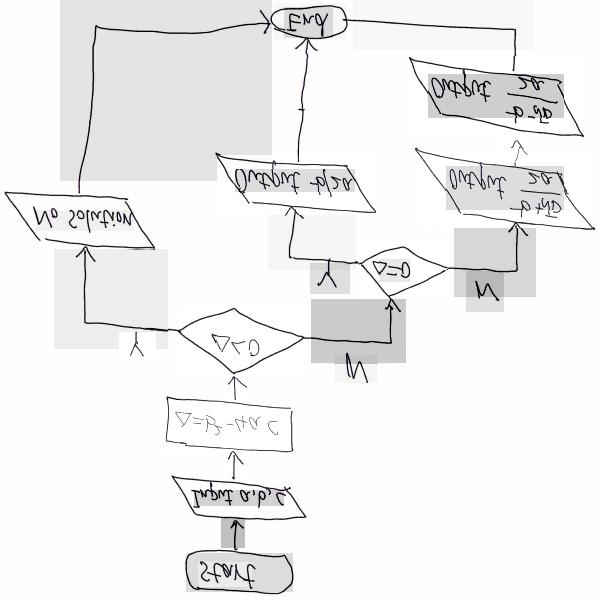arrow: (60, 0, 272, 181), (54, 248, 168, 348), (353, 0, 534, 50), (454, 222, 536, 297), (311, 299, 406, 363), (268, 211, 356, 270), (222, 447, 249, 477), (221, 518, 245, 548), (498, 139, 528, 163), (225, 377, 250, 401)
data: (407, 56, 585, 137), (416, 149, 593, 227), (218, 155, 379, 214)
decision: (179, 307, 305, 378), (362, 240, 448, 298)
process: (160, 400, 292, 452)
terminator: (186, 553, 293, 592), (274, 3, 347, 40)
text: (428, 74, 564, 118), (446, 166, 564, 210), (175, 410, 284, 441), (235, 169, 356, 192), (36, 210, 134, 231), (466, 271, 504, 312), (284, 7, 333, 38), (194, 490, 284, 506), (198, 562, 252, 587), (310, 263, 350, 294), (334, 354, 378, 382), (119, 332, 156, 362), (216, 334, 266, 355), (379, 259, 410, 282)
